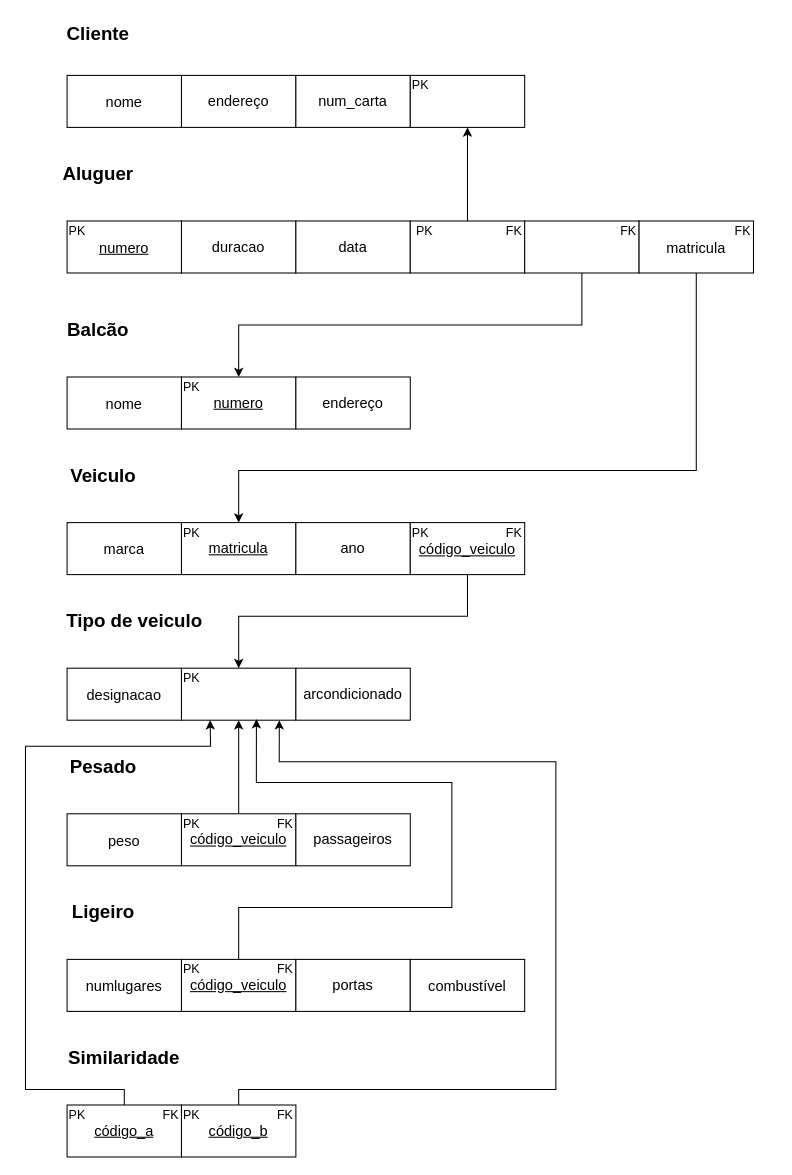
Image size: 792x1175. Some labels were removed from this diagram. Here are the shapes that lost their labels. From the top down, the box of each, then its label:
(409, 74, 525, 127): NIF
(409, 220, 525, 273): NIF_cliente
(524, 220, 639, 273): número_balcao
(180, 667, 296, 720): código
